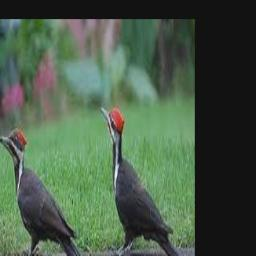Woodpecker: (100, 106, 182, 256), (0, 127, 91, 256)
